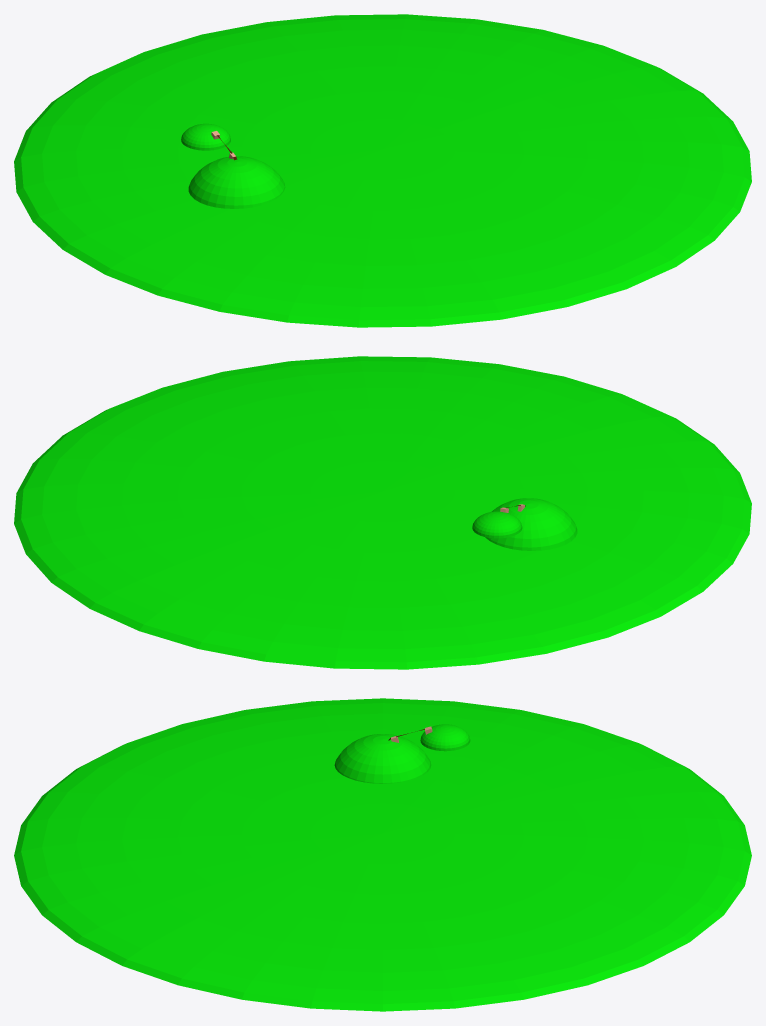
Rendered from dimensions test.fbx.
3 views of the same model, one above another, from view 1: azimuth 30°, elevation 25°; view 2: azimuth 150°, elevation 25°; view 3: azimuth 270°, elevation 25° (orthographic).
Visible parts, largest first — view 1: Sphere, Sphere.001, Sphere.002; view 2: Sphere, Sphere.001, Sphere.002; view 3: Sphere, Sphere.001, Sphere.002.
Part boxes in pixels (box(x1,y1,x2,y2)): Sphere: box(14, 14, 751, 327); Sphere.001: box(188, 156, 285, 208); Sphere.002: box(181, 123, 230, 150); Sphere: box(14, 356, 751, 669); Sphere.001: box(485, 498, 577, 550); Sphere.002: box(472, 511, 522, 538); Sphere: box(14, 698, 751, 1011); Sphere.001: box(334, 734, 431, 783); Sphere.002: box(420, 724, 470, 751).
Size of the model in its own units: 150000 by 12943 by 150000.
